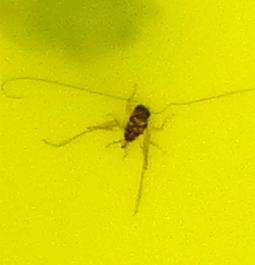Orthoptera: (100, 100, 155, 165)
